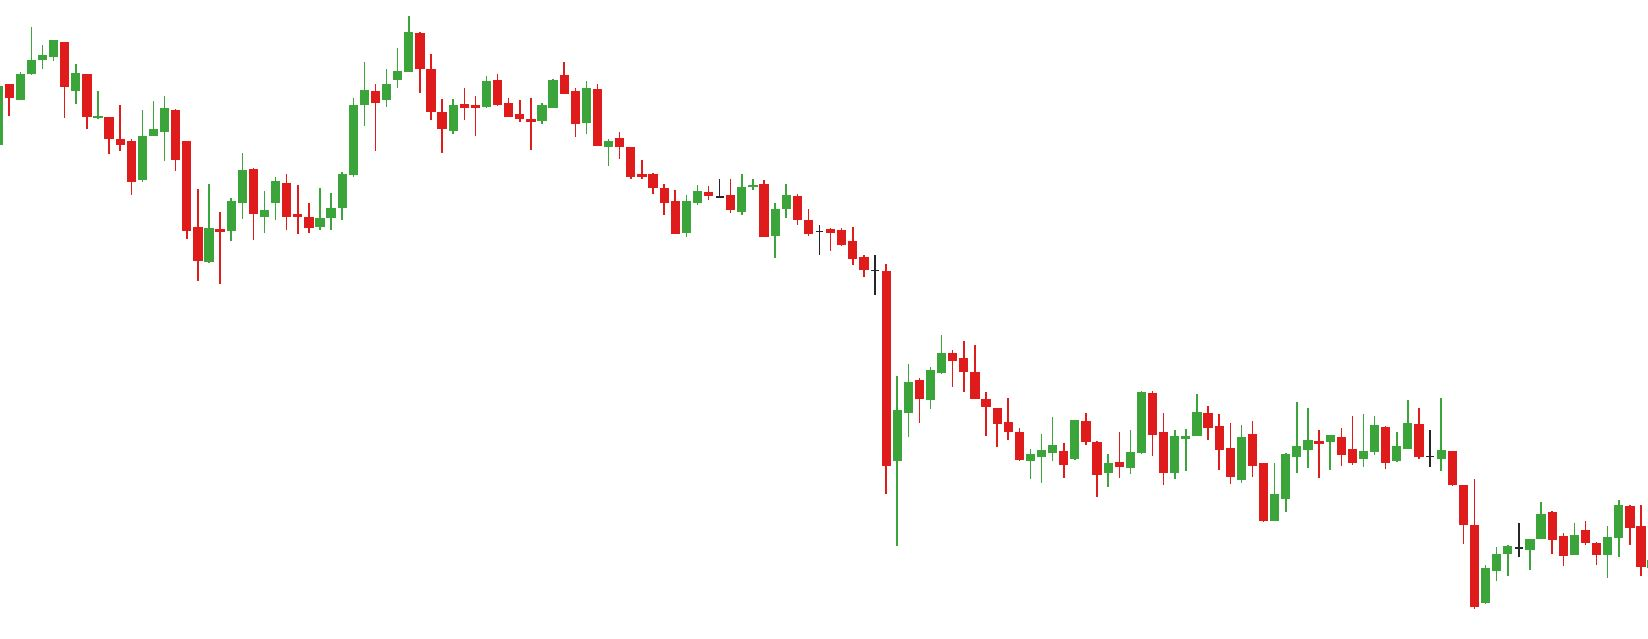sell: (1346, 394, 1427, 463)
